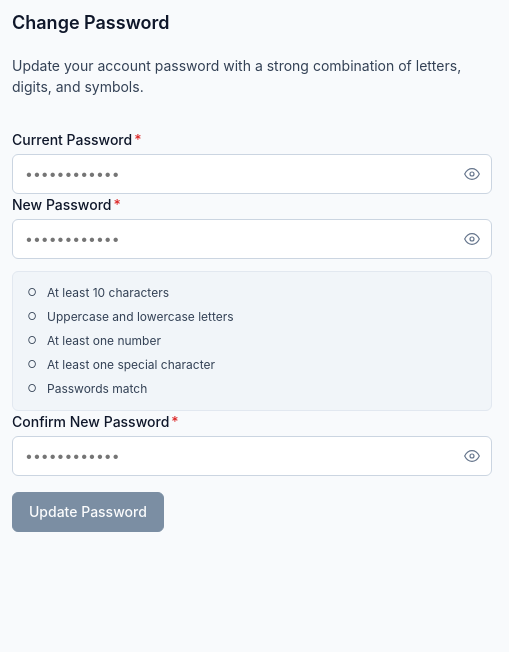
ChangePasswordForm › displays server error message on failure
This screenshot has width=509, height=652.
In the password field with test id "input-current-password": [252, 174] box left=12, top=154, right=492, bottom=194, type "WrongPassword1!"
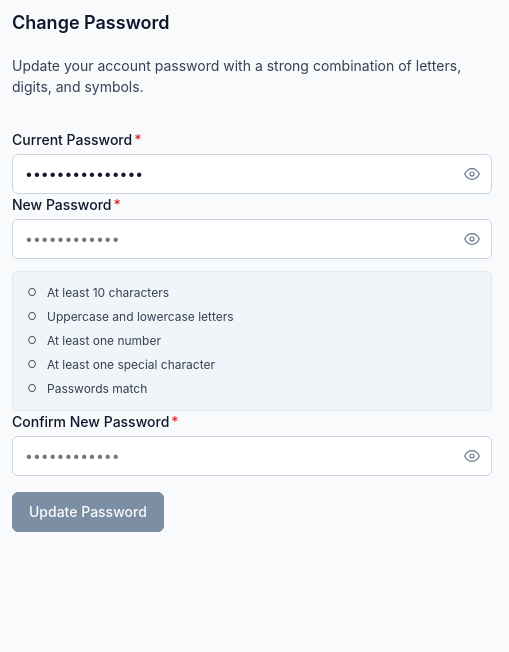
In the password field with test id "input-new-password": [252, 238] box left=12, top=218, right=492, bottom=258, type "NewSecret10!#"
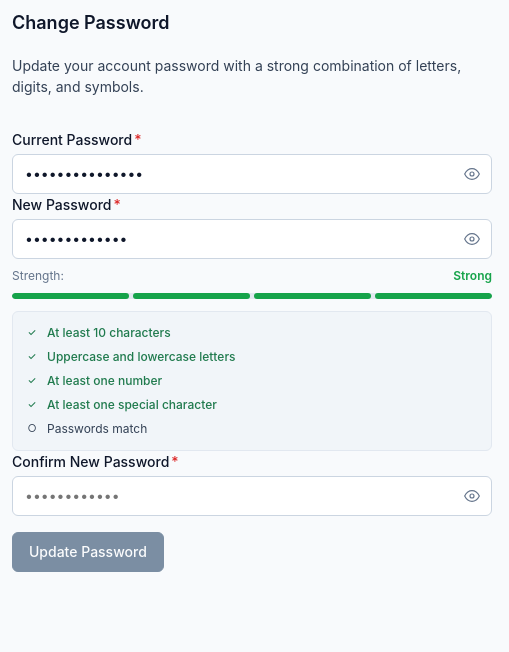
In the password field with test id "input-confirm-password": [252, 496] box left=12, top=476, right=492, bottom=516, type "NewSecret10!#"
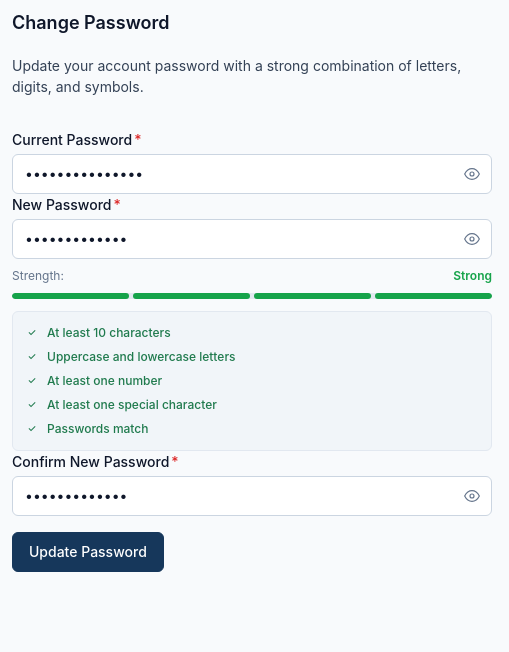
Click the button with test id "submit-change-password-btn": [88, 552] box left=12, top=532, right=164, bottom=572
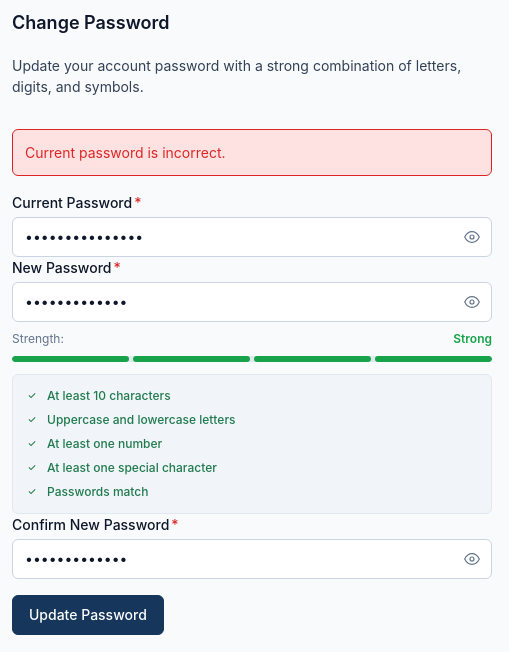
Expected: the text "Current password is incorrect." is shown, left=12, top=128, right=492, bottom=176
